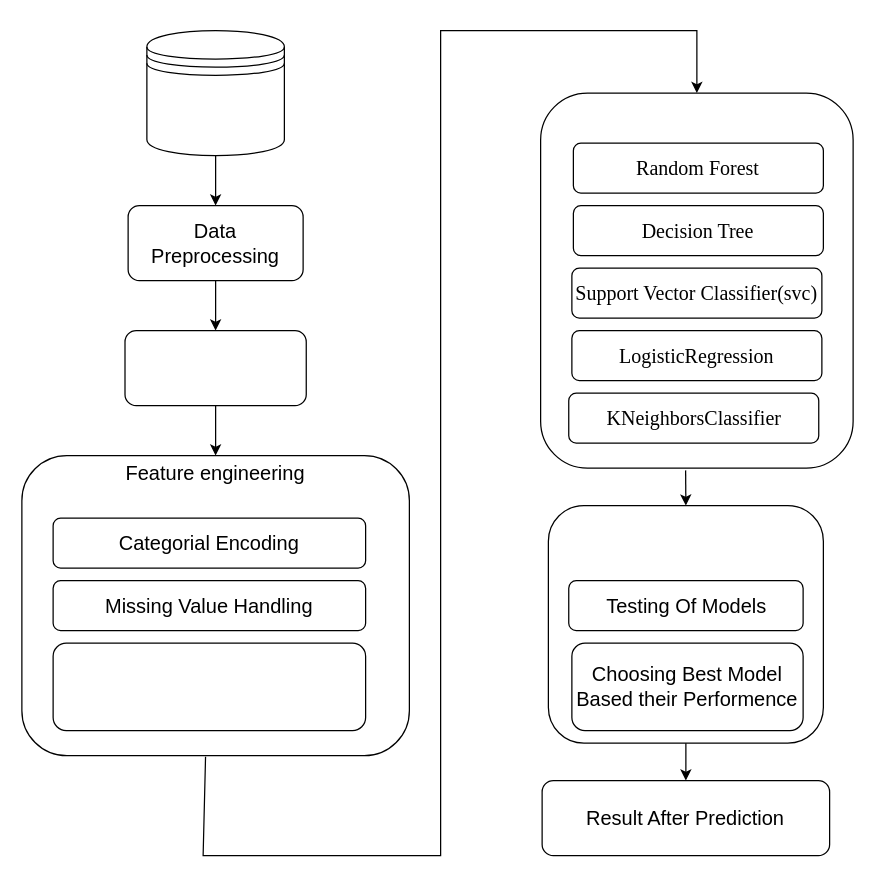
The diagram is 875 pixels wide and 888 high, and some of its shapes have lost their labels. Each missing label, with the box of its shape:
Analysis of data: (124, 329, 306, 406)
Data set: (146, 29, 284, 156)
Data Split : 70 % for training & 30% for testing: (52, 642, 366, 731)
Phase of testing & Evaluation: (547, 504, 823, 743)
Training Phase: (539, 92, 853, 468)
